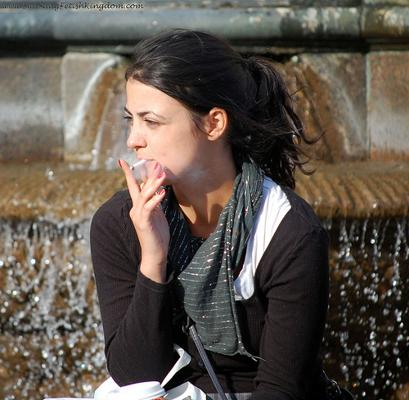person: (87, 30, 330, 398)
